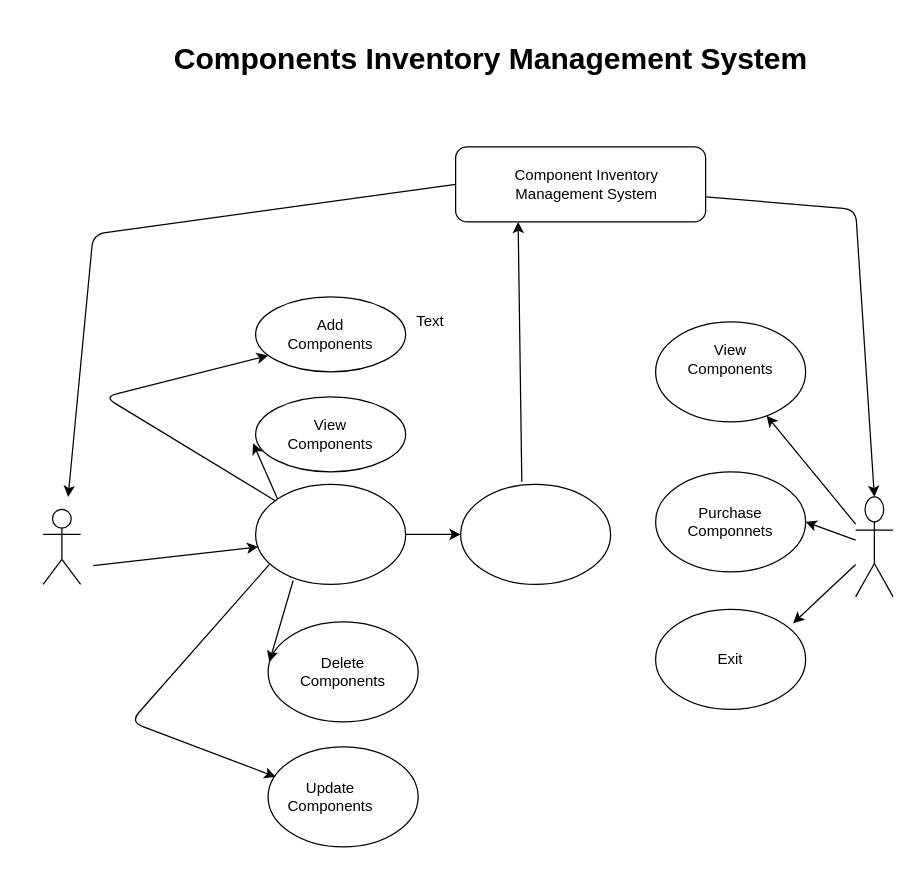
The diagram is 915 pixels wide and 869 high, and some of its shapes have lost their labels. The centre of each missing label's shape, as x and y in pixels:
"Login Credentails" goes at (330,533).
"Logout" goes at (535,533).
"Shopkeeper" goes at (61,546).
"User" goes at (873,546).
